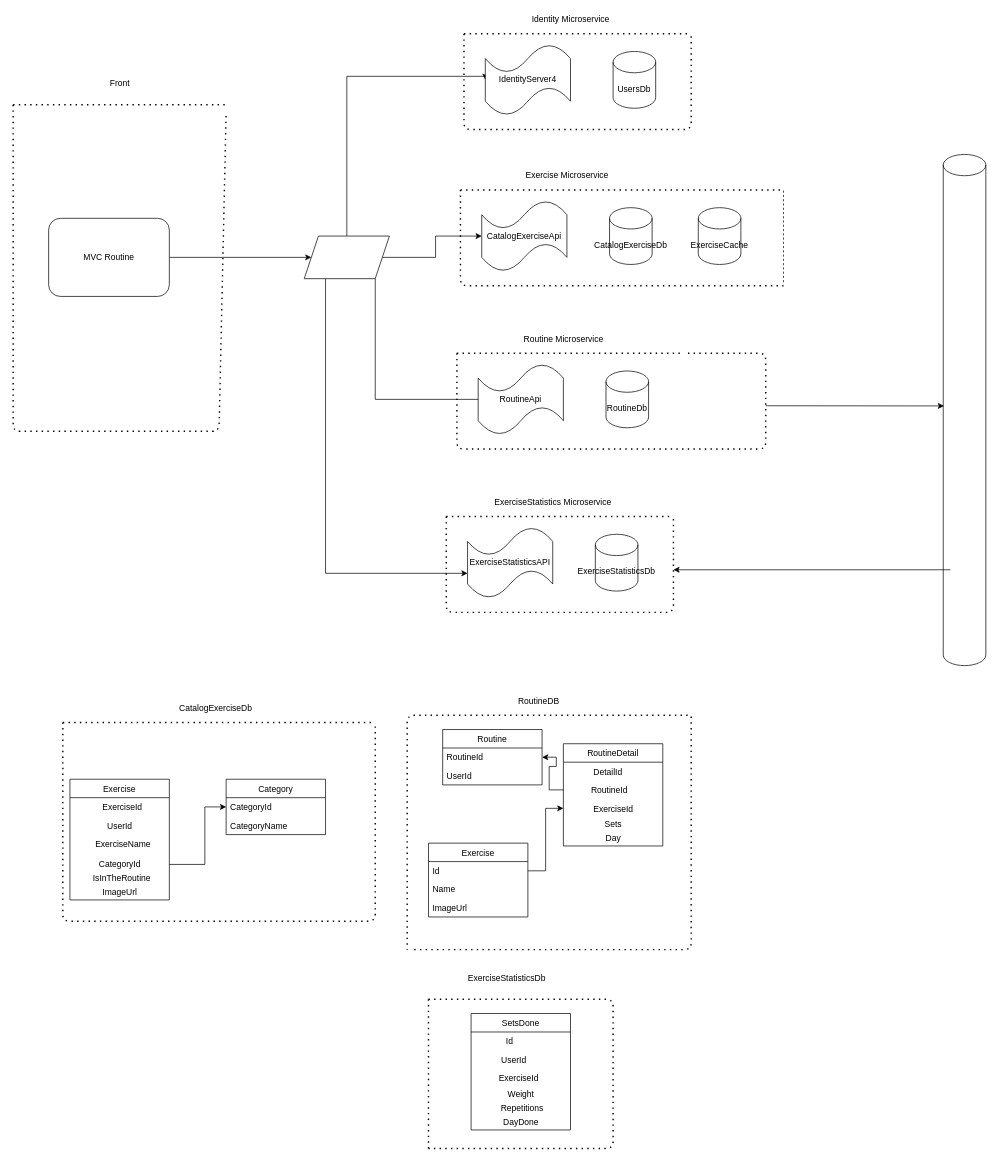
The diagram is 998 pixels wide and 1162 high, and some of its shapes have lost their labels. The shapes that lost their labels are listed below. From the top down, each one's centre as x and y in pixels, then its label:
At point (346, 257): "ApiGateway".
At point (964, 410): "RabbitMQ".
